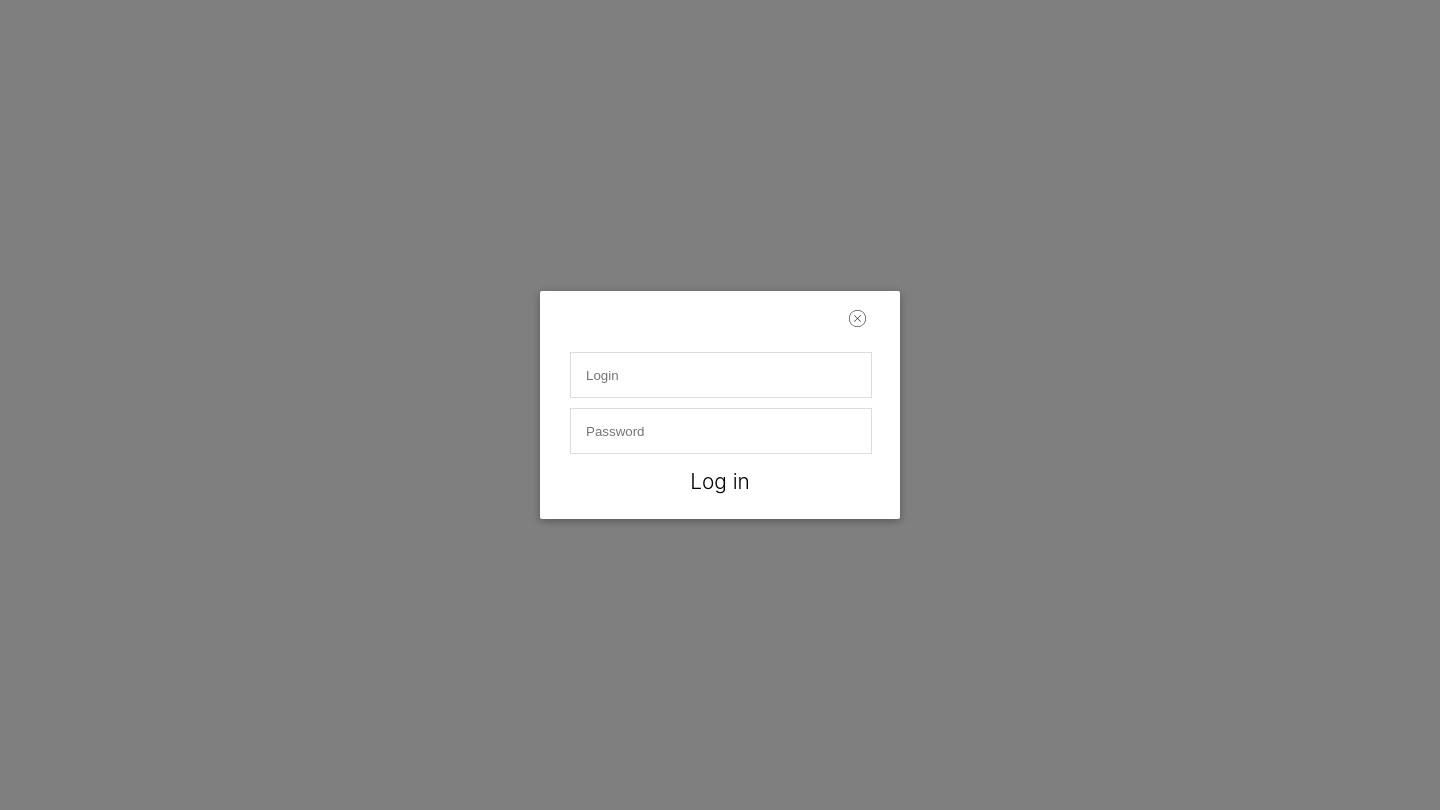
Test: Testing Login component › Warnings should be displayed if fields are not filled in
This screenshot has width=1440, height=810.
Clear the password field with placeholder "Password" at (730, 431), box [571, 409, 888, 453]
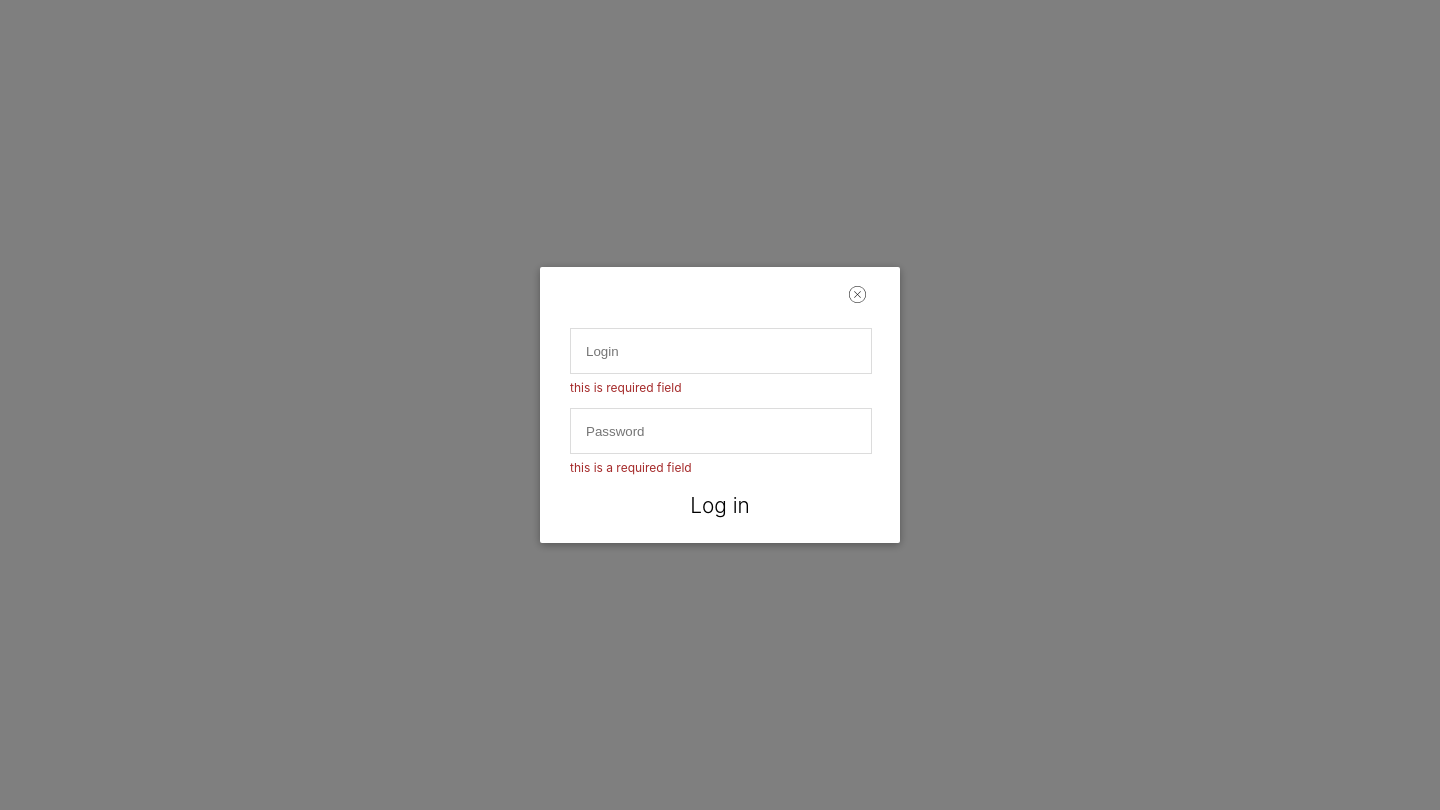
expect the text with class "warn" shows "required field": met, box [570, 380, 682, 395]
